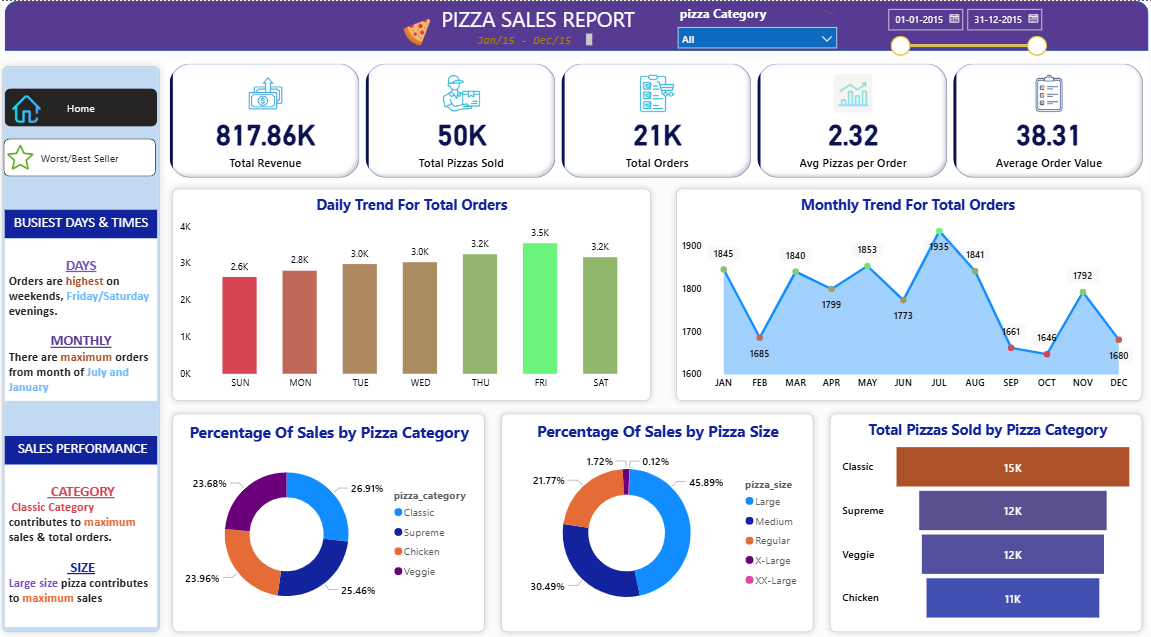

Layout of this report page (visuals, bound fields, positions):
{"tool":"powerbi","page":{"name":" Home","canvas":[1500,820],"ordinal":0},"visuals":[{"type":"cardVisual","fields":{"Data":["pizza_sales.Total Revenue","pizza_sales.Total Pizzas Sold","pizza_sales.Total Orders","pizza_sales.Avg Pizzas per Order","pizza_sales.Average Order Value"]},"box":[218.7,75.6,1263.9,157.6],"z":0},{"type":"shape","box":[11.3,0,1471.4,64.3],"z":1000},{"type":"textbox","box":[567.6,0,283,51.5],"z":2000},{"type":"textbox","box":[614.3,37,157.6,25.7],"z":3000},{"type":"image","box":[495,18.3,93.3,45],"z":4000},{"type":"shape","box":[218.7,233.2,632,289.5],"z":5000},{"type":"columnChart","title":"Daily Trend For Total Orders","fields":{"Category":["pizza_sales.Order Day"],"Y":["pizza_sales.Total Orders"]},"box":[231.6,249.3,606.2,260.5],"z":6000},{"type":"shape","box":[866.7,233.2,615.9,289.5],"z":7000},{"type":"shape","box":[0,75.6,218.7,744.5],"z":8000},{"type":"areaChart","title":"Monthly Trend For Total Orders","fields":{"Category":["pizza_sales.Order Month"],"Y":["pizza_sales.Total Orders"]},"box":[878,249.3,590.2,260.5],"z":9000},{"type":"shape","box":[1064.5,522.6,418.1,297.5],"z":10000},{"type":"shape","box":[641.6,522.6,418.1,297.5],"z":11000},{"type":"shape","box":[218.7,522.6,418.1,297.5],"z":12000},{"type":"donutChart","title":"Percentage Of Sales by Pizza Category","fields":{"Category":["pizza_sales.pizza_category"],"Y":["pizza_sales.Total Revenue"]},"box":[231.6,540.3,394,265.3],"z":13000},{"type":"donutChart","title":"Percentage Of Sales by Pizza Size","fields":{"Category":["pizza_sales.pizza_size"],"Y":["pizza_sales.Total Revenue"]},"box":[654.5,538.7,394,265.3],"z":14000},{"type":"funnel","title":"Total Pizzas Sold by Pizza Category","fields":{"Category":["pizza_sales.pizza_category"],"Y":["pizza_sales.Total Pizzas Sold"]},"box":[1083.8,538.7,384.3,265.3],"z":15000},{"type":"textbox","box":[11.3,268.5,196.2,37],"z":16000},{"type":"textbox","box":[11.3,305.5,196.2,209],"z":17000},{"type":"textbox","box":[11.3,559.6,196.2,37],"z":18000},{"type":"textbox","box":[11.3,596.6,196.2,209],"z":19000},{"type":"slicer","fields":{"Values":["pizza_sales.pizza_category"]},"box":[866.7,0,225.1,64.3],"z":20000},{"type":"slicer","fields":{"Values":["pizza_sales.order_date"]},"box":[1135.3,0,225.1,86.8],"z":21000},{"type":"pageNavigator","box":[11.3,112.6,196.2,49.9],"z":22000},{"type":"pageNavigator","box":[9.6,176.9,196.2,49.9],"z":23000},{"type":"image","box":[11.3,115.8,56.3,46.6],"z":24000},{"type":"image","box":[9.6,176.9,43.4,48.2],"z":25000}]}

Visuals, with their boxes in screenshot pixels (x1, y1, x2, y2), scaled from the page's 1500x820 canvas onto the 1151x637 screenshot:
cardVisual - pizza_sales.Total Revenue x pizza_sales.Total Pizzas Sold: box=[168, 59, 1138, 181]
shape: box=[9, 0, 1138, 50]
textbox: box=[436, 0, 653, 40]
textbox: box=[471, 29, 592, 49]
image: box=[380, 14, 451, 49]
shape: box=[168, 181, 653, 406]
"Daily Trend For Total Orders" columnChart: box=[178, 194, 643, 396]
shape: box=[665, 181, 1138, 406]
shape: box=[0, 59, 168, 636]
"Monthly Trend For Total Orders" areaChart: box=[674, 194, 1127, 396]
shape: box=[817, 406, 1138, 636]
shape: box=[492, 406, 813, 636]
shape: box=[168, 406, 489, 636]
"Percentage Of Sales by Pizza Category" donutChart: box=[178, 420, 480, 626]
"Percentage Of Sales by Pizza Size" donutChart: box=[502, 418, 805, 625]
"Total Pizzas Sold by Pizza Category" funnel: box=[832, 418, 1127, 625]
textbox: box=[9, 209, 159, 237]
textbox: box=[9, 237, 159, 400]
textbox: box=[9, 435, 159, 463]
textbox: box=[9, 463, 159, 626]
slicer - pizza_sales.pizza_category: box=[665, 0, 838, 50]
slicer - pizza_sales.order_date: box=[871, 0, 1044, 67]
pageNavigator: box=[9, 87, 159, 126]
pageNavigator: box=[7, 137, 158, 176]
image: box=[9, 90, 52, 126]
image: box=[7, 137, 41, 175]
